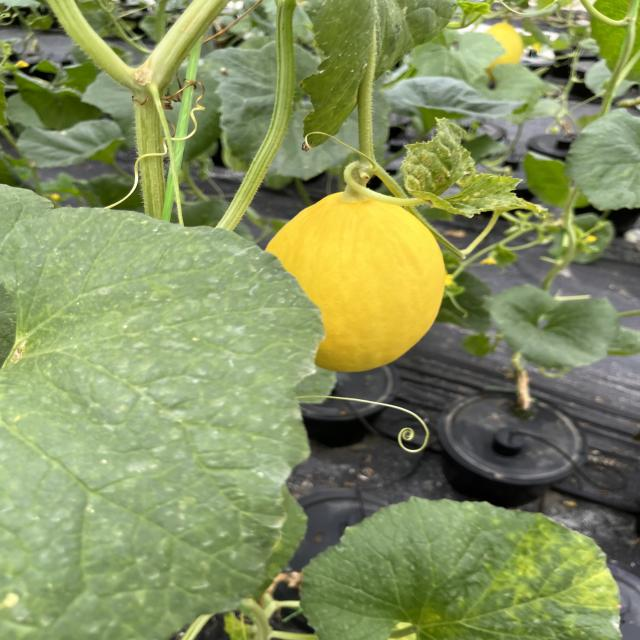SLCV: (402, 118, 564, 241)
alternaria leaf blight: (281, 0, 508, 159)
downy mildew: (294, 498, 640, 640)
powdery mildew: (0, 171, 331, 640)
